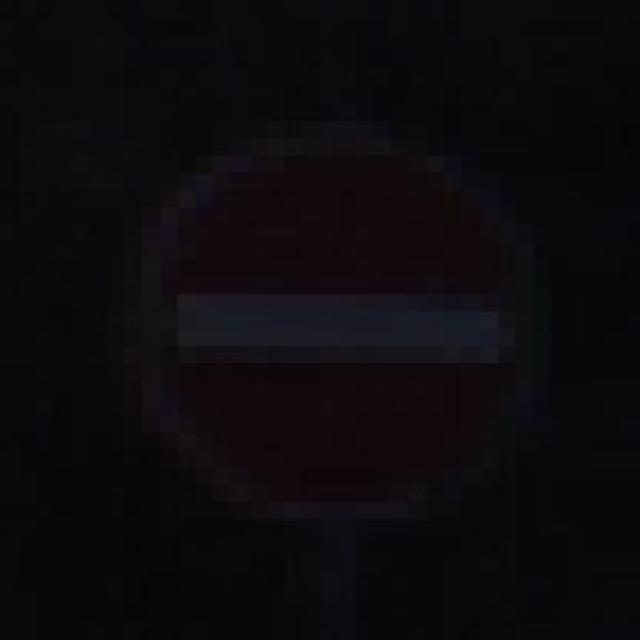No Entry: (71, 87, 587, 519)
